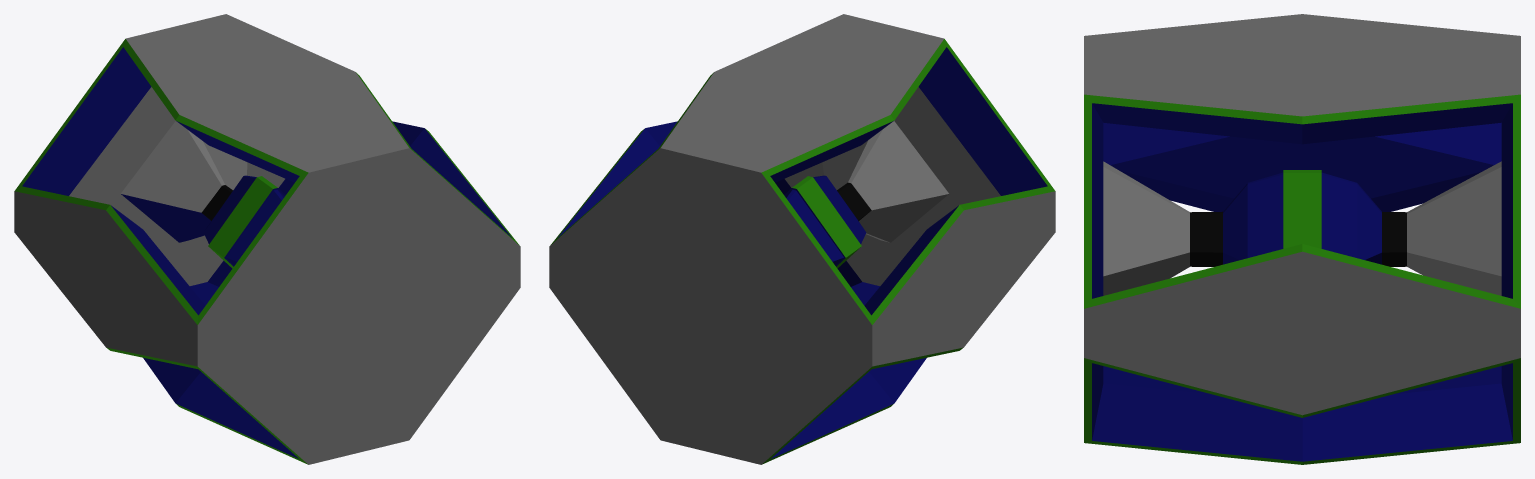
Rendered from Fusion_Engine_Part_Wipeout.fbx.
3 renders of one model, left to right at view 1: azimuth 30°, elevation 25°; view 2: azimuth 150°, elevation 25°; view 3: azimuth 270°, elevation 25°, orthographic. The views are drawn at different scales.
Visible parts, largest first — view 1: Fusion_Engine_Ship; view 2: Fusion_Engine_Ship; view 3: Fusion_Engine_Ship.
Part boxes in pixels (<box>): Fusion_Engine_Ship: <box>14,14,520,464</box>; Fusion_Engine_Ship: <box>549,14,1055,464</box>; Fusion_Engine_Ship: <box>1084,14,1520,464</box>.
Bounding box in the file's own units: 269 × 265 × 233.
